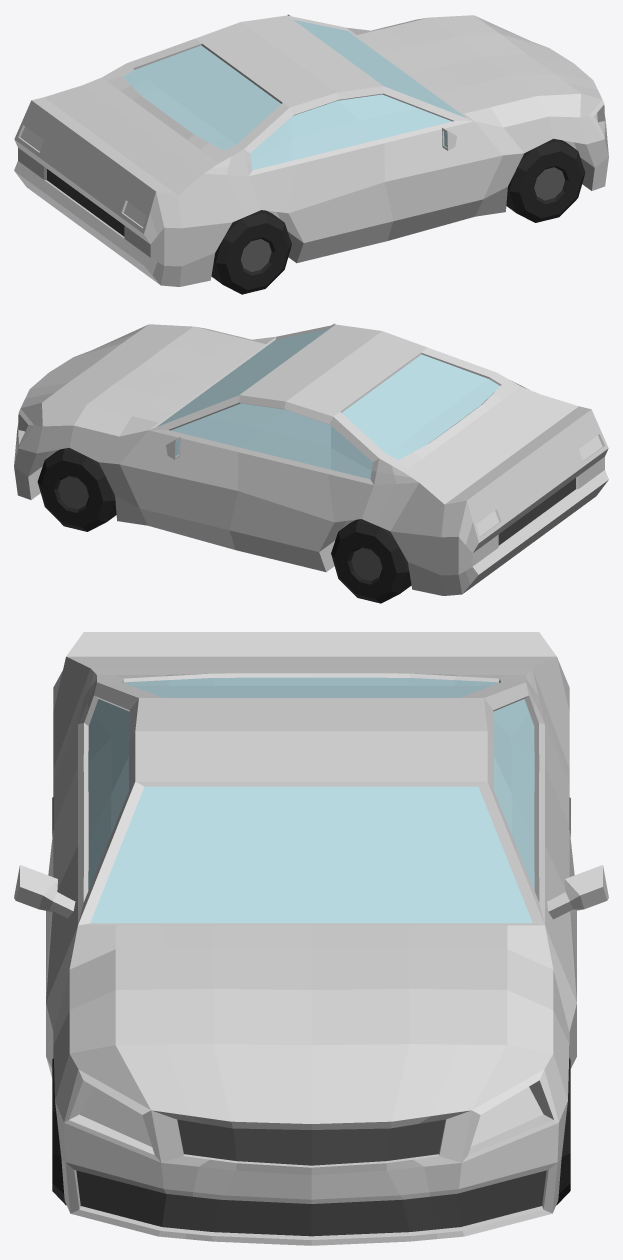
The model's file is sedan_generic_c.glb.
3 views of the same model, one above another, from view 1: azimuth 30°, elevation 25°; view 2: azimuth 150°, elevation 25°; view 3: azimuth 270°, elevation 25° (orthographic). The views are drawn at different scales.
Parts seen in each view (by area): view 1: Body_Cube.001, BackRightWheel_Cylinder.003, FrontRightWheel_Cylinder.002; view 2: Body_Cube.001, BackLeftWheel_Cylinder.001, FrontLeftWheel_Cylinder; view 3: Body_Cube.001, FrontRightWheel_Cylinder.002, FrontLeftWheel_Cylinder.
Part boxes in pixels (x1=…): Body_Cube.001: x1=14, y1=14, x2=608, y2=286; BackRightWheel_Cylinder.003: x1=211, y1=210, x2=291, y2=294; FrontRightWheel_Cylinder.002: x1=506, y1=138, x2=585, y2=222; Body_Cube.001: x1=14, y1=323, x2=608, y2=595; BackLeftWheel_Cylinder.001: x1=331, y1=519, x2=411, y2=603; FrontLeftWheel_Cylinder: x1=37, y1=447, x2=116, y2=531; Body_Cube.001: x1=14, y1=632, x2=608, y2=1245; FrontRightWheel_Cylinder.002: x1=52, y1=1058, x2=66, y2=1205; FrontLeftWheel_Cylinder: x1=556, y1=1058, x2=570, y2=1205.
Size of the model in its own units: 4.6 by 1.42 by 2.61.
